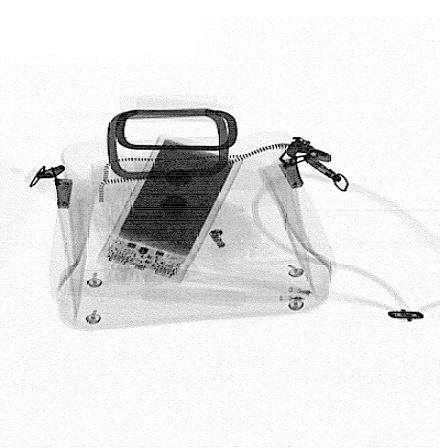Powerbank: (96, 134, 246, 286)
